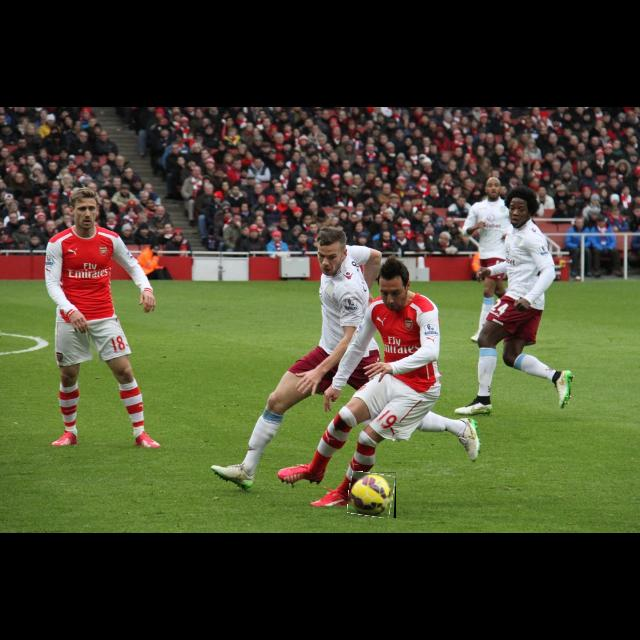Football: (348, 472, 396, 518)
